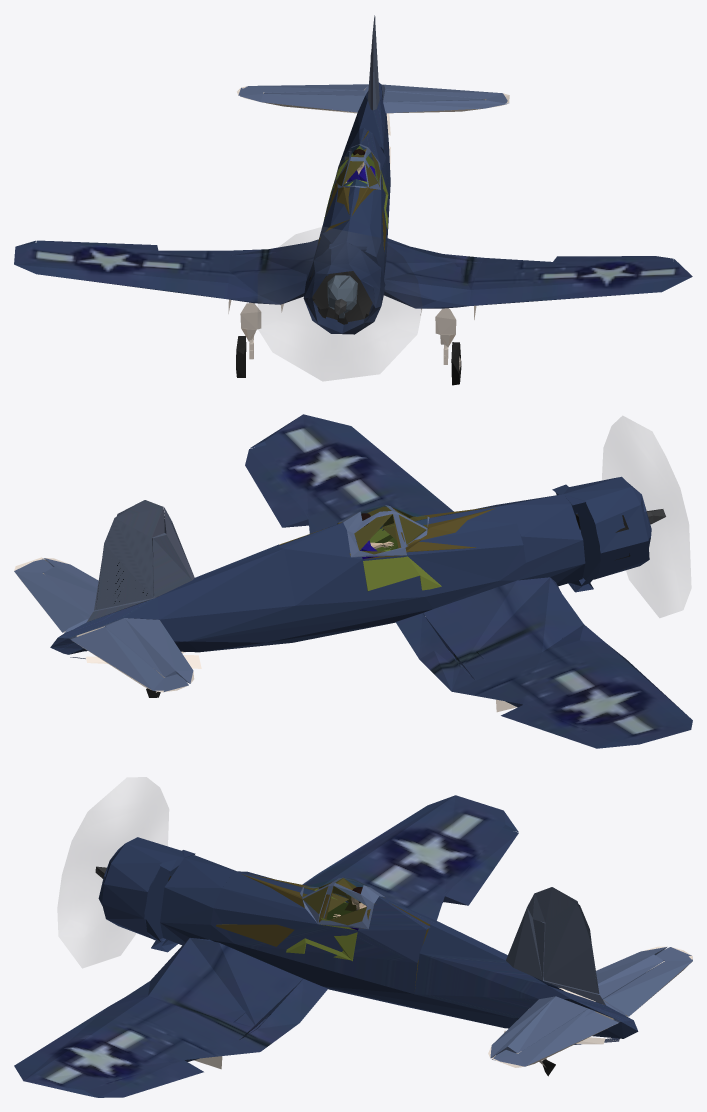
The picture shows the model from 3 angles, top to bottom: view 1: azimuth 30°, elevation 25°; view 2: azimuth 150°, elevation 25°; view 3: azimuth 270°, elevation 25°; orthographic projection. The views are drawn at different scales.
Visible parts, largest first — view 1: f4u1fuse-FACES (×4), VINT-FACES, kabina-FACES (×2), kabina01-FACES, Object_185; view 2: kabina-FACES (×2), f4u1fuse-FACES (×3), VINT-FACES, kabina01-FACES (×2); view 3: f4u1fuse-FACES (×3), kabina-FACES (×2), VINT-FACES, kabina01-FACES (×2).
Part boxes in pixels (x1=…): f4u1fuse-FACES (×4): x1=14, y1=86, x2=692, y2=385; VINT-FACES: x1=258, y1=227, x2=421, y2=380; kabina-FACES (×2): x1=238, y1=82, x2=508, y2=334; kabina01-FACES: x1=318, y1=130, x2=386, y2=251; Object_185: x1=312, y1=271, x2=372, y2=321; kabina-FACES (×2): x1=14, y1=476, x2=651, y2=691; f4u1fuse-FACES (×3): x1=14, y1=414, x2=692, y2=748; VINT-FACES: x1=602, y1=416, x2=690, y2=617; kabina01-FACES (×2): x1=279, y1=506, x2=495, y2=591; f4u1fuse-FACES (×3): x1=14, y1=795, x2=692, y2=1097; kabina-FACES (×2): x1=98, y1=837, x2=692, y2=1066; VINT-FACES: x1=58, y1=777, x2=168, y2=967; kabina01-FACES (×2): x1=216, y1=874, x2=430, y2=988.
Bounding box in the file's own units: 9.04 × 3.59 × 8.62.
25 materials, 6 textured.
